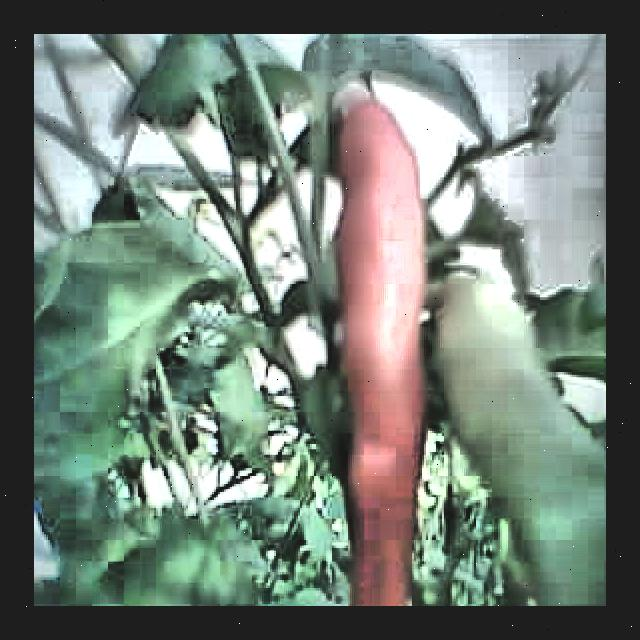Cabai: (320, 67, 449, 606)
